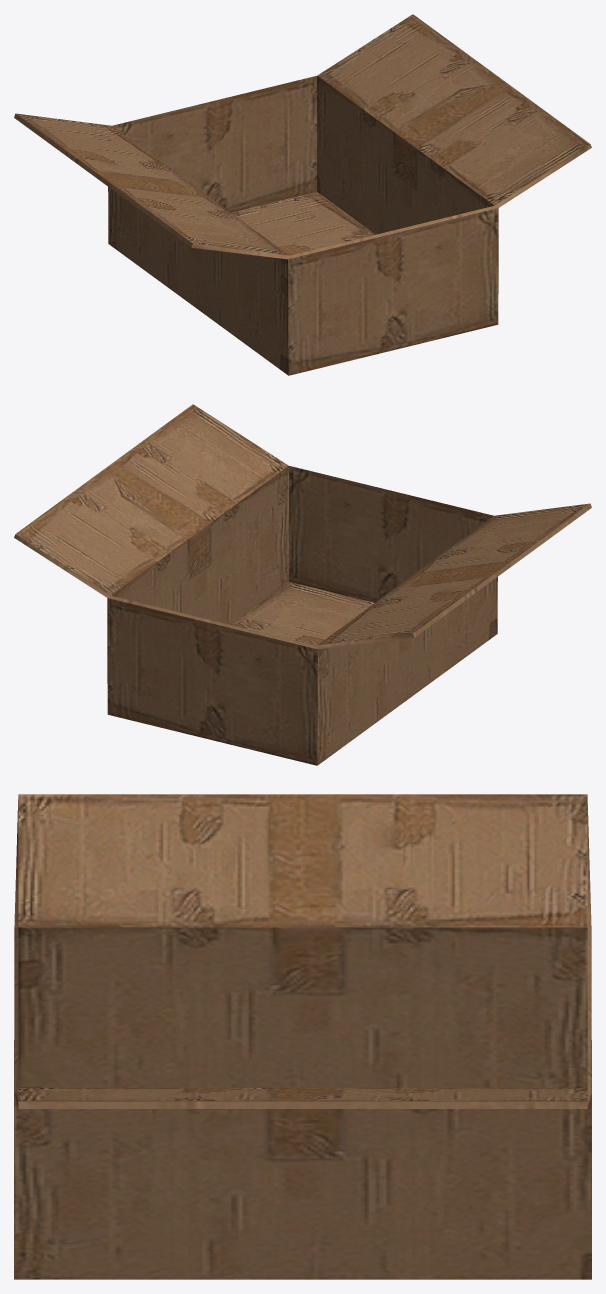
Rendered from Prop_Carton3.glb.
3 renders of one model, top to bottom at view 1: azimuth 30°, elevation 25°; view 2: azimuth 150°, elevation 25°; view 3: azimuth 270°, elevation 25°, orthographic. The views are drawn at different scales.
Parts seen in each view (by area): view 1: xiutz_carton3; view 2: xiutz_carton3; view 3: xiutz_carton3.
Boxes of the visible parts, x1,y1,x2,y2 form: xiutz_carton3: (14, 14, 591, 375); xiutz_carton3: (14, 404, 591, 765); xiutz_carton3: (14, 794, 591, 1279).
Size of the model in its own units: 1.88 by 0.7051 by 1.47.
Materials: 1 (1 with a texture image).
